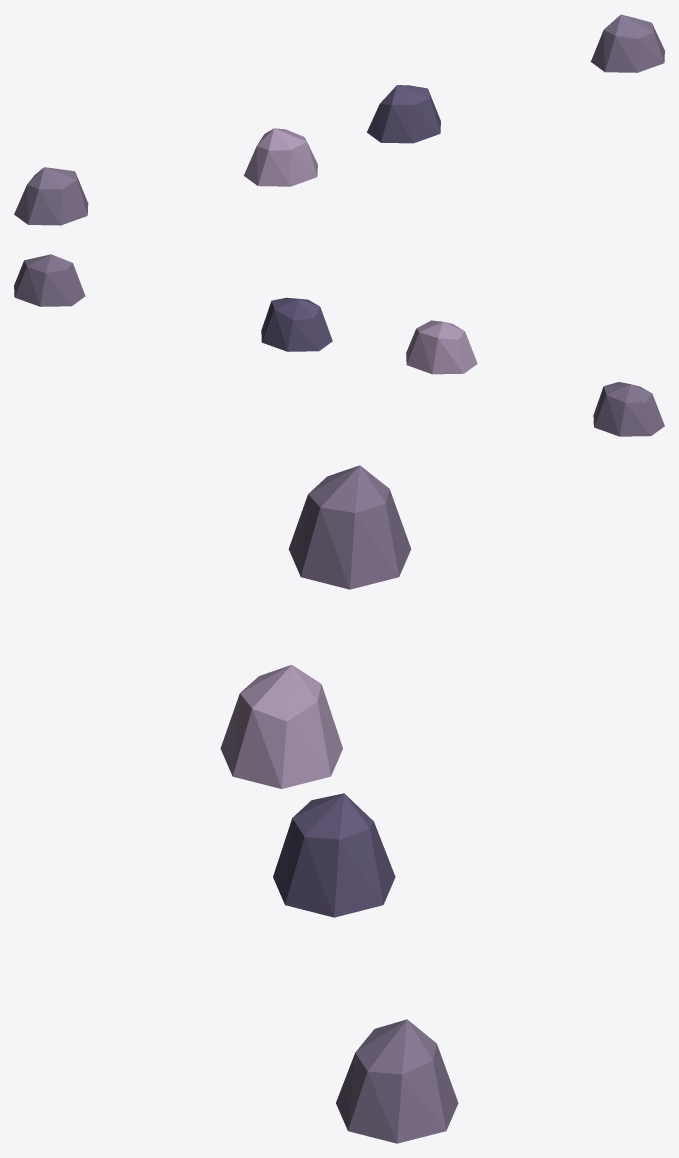
The picture shows the model from 3 angles, top to bottom: view 1: azimuth 30°, elevation 25°; view 2: azimuth 150°, elevation 25°; view 3: azimuth 270°, elevation 25°; orthographic projection. The views are drawn at different scales.
Visible parts, largest first — view 1: 台地下散石.001; view 2: 台地下散石.001; view 3: 台地下散石.001.
Part boxes in pixels (x1,y1,x2,y2): 台地下散石.001: (14,14,664,225); 台地下散石.001: (14,254,664,436); 台地下散石.001: (220,465,458,1143).
Bounding box in the file's own units: 2.79 × 0.18 × 0.454.
